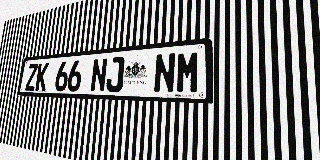6: (67, 60, 83, 92), (54, 61, 70, 91)
J: (105, 57, 125, 92)
K: (35, 63, 49, 91)
M: (175, 50, 200, 94)
N: (153, 52, 176, 93), (90, 58, 108, 92)
Z: (25, 63, 38, 91)
